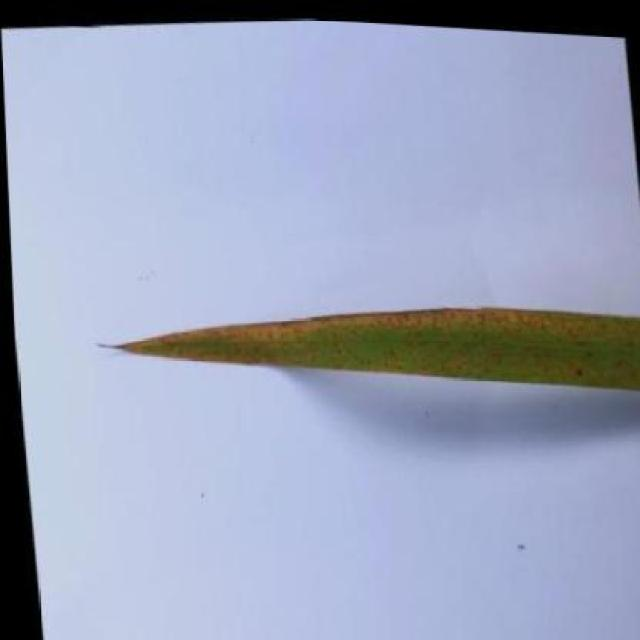Rice False Smut: (105, 300, 640, 383)
